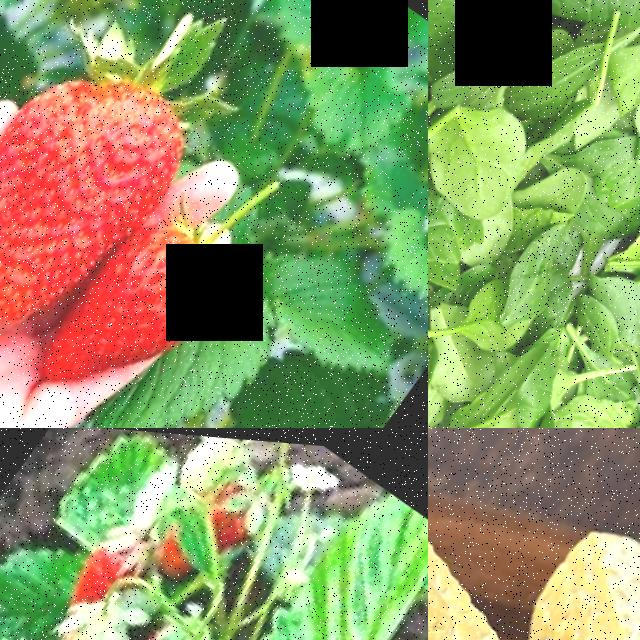spinach: (428, 77, 554, 224), (451, 325, 587, 428), (570, 258, 640, 362), (428, 0, 496, 96), (531, 0, 640, 56), (543, 379, 640, 428)
strawberry: (0, 18, 216, 361), (30, 181, 256, 428)
tempeh: (428, 442, 560, 640), (523, 483, 640, 640)
